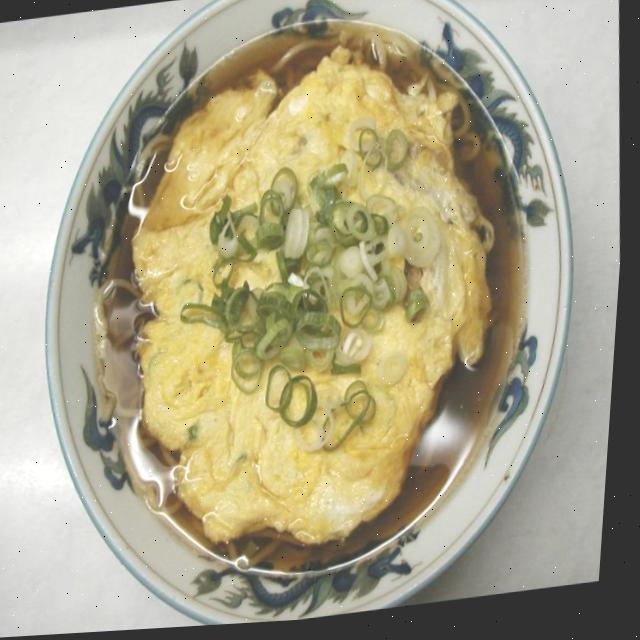面条主食: (56, 0, 553, 636)
